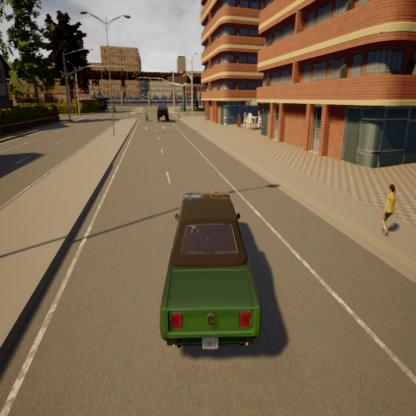Cars: (154, 186, 266, 358), (154, 101, 170, 124)
Pedestrian: (380, 179, 398, 244)
